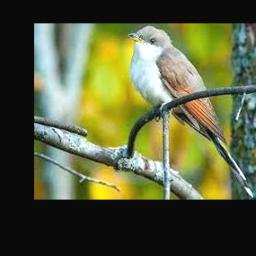Cuckoo: (128, 25, 256, 200)
